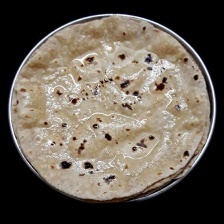roti: (7, 11, 215, 205)
